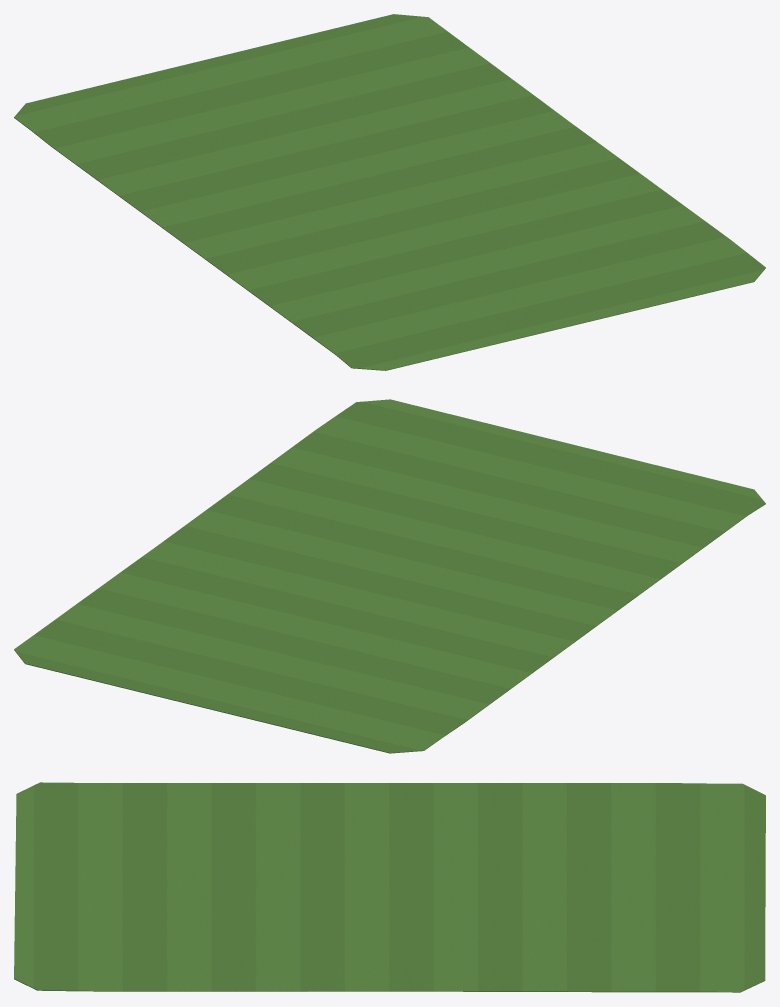
The model's file is field.glb.
3 renders of one model, top to bottom at view 1: azimuth 30°, elevation 25°; view 2: azimuth 150°, elevation 25°; view 3: azimuth 270°, elevation 25°, orthographic. The views are drawn at different scales.
Visible parts, largest first — view 1: field; view 2: field; view 3: field.
Part boxes in pixels (x1,y1,x2,y2): field: (14,14,765,370); field: (14,399,765,753); field: (14,782,765,992).
Bounding box in the file's own units: 65.14 × 0.1375 × 98.69.
Materials: 1 (1 with a texture image).
